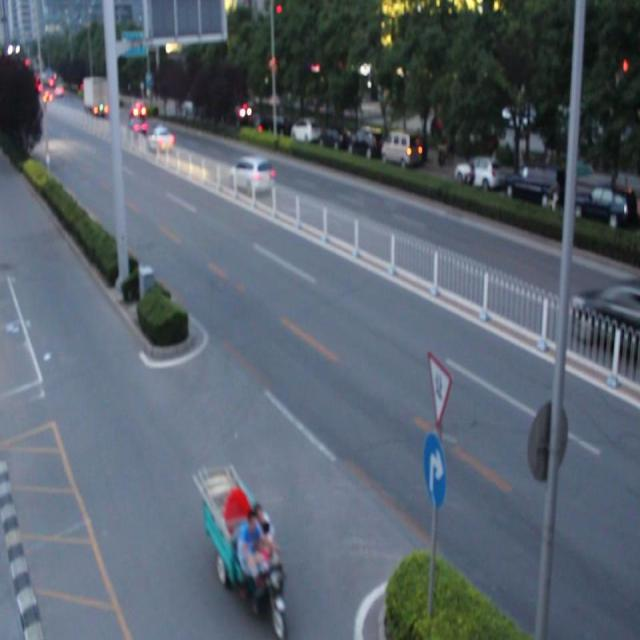car: (570, 279, 640, 365), (228, 154, 274, 198)
